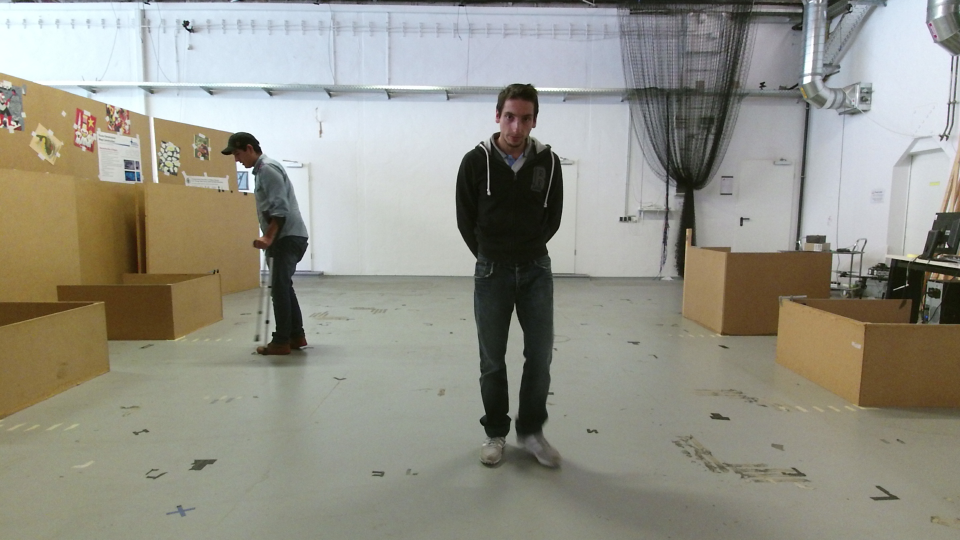crutches: (219, 124, 318, 366)
